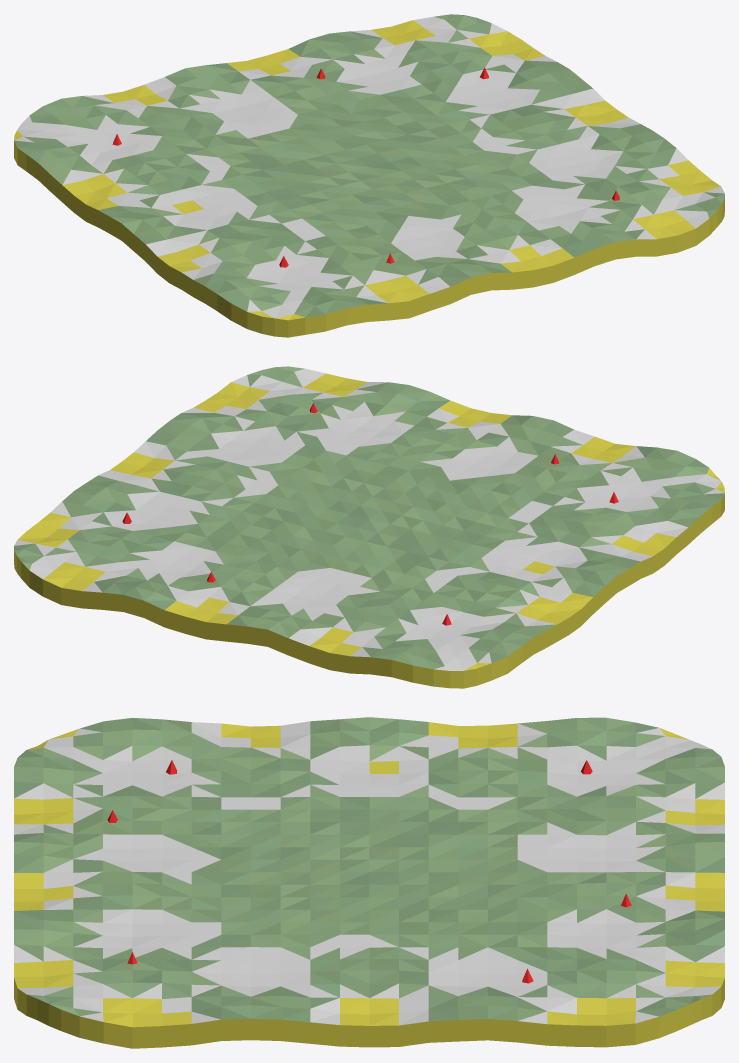
File: ground.glb
3 renders of one model, top to bottom at view 1: azimuth 30°, elevation 25°; view 2: azimuth 150°, elevation 25°; view 3: azimuth 270°, elevation 25°, orthographic. The views are drawn at different scales.
Visible parts, largest first — view 1: Ground_Top; view 2: Ground_Top; view 3: Ground_Top, Grass_Patches.
Boxes of the visible parts, x1,y1,x2,y2 form: Ground_Top: (14,14,724,337); Ground_Top: (14,366,724,688); Ground_Top: (14,717,724,1048); Grass_Patches: (107,760,631,983).
Bounding box in the file's own units: 18 × 1.09 × 18.
